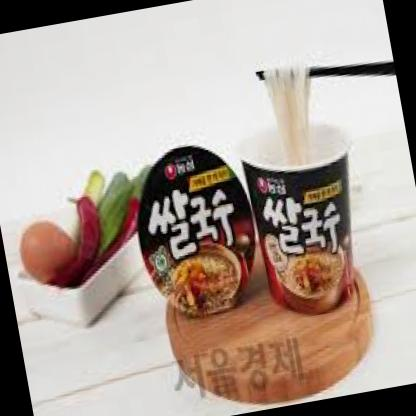Ramen: (230, 103, 376, 322)
